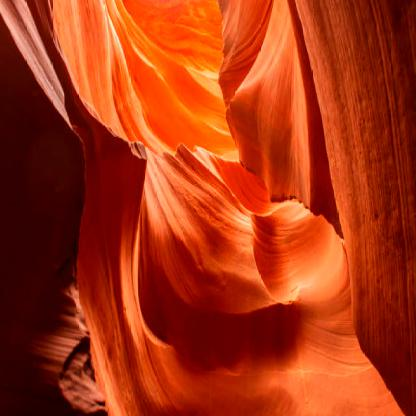Sedimentary_Sandstone: (117, 60, 242, 276), (13, 128, 116, 377), (289, 119, 395, 322)
